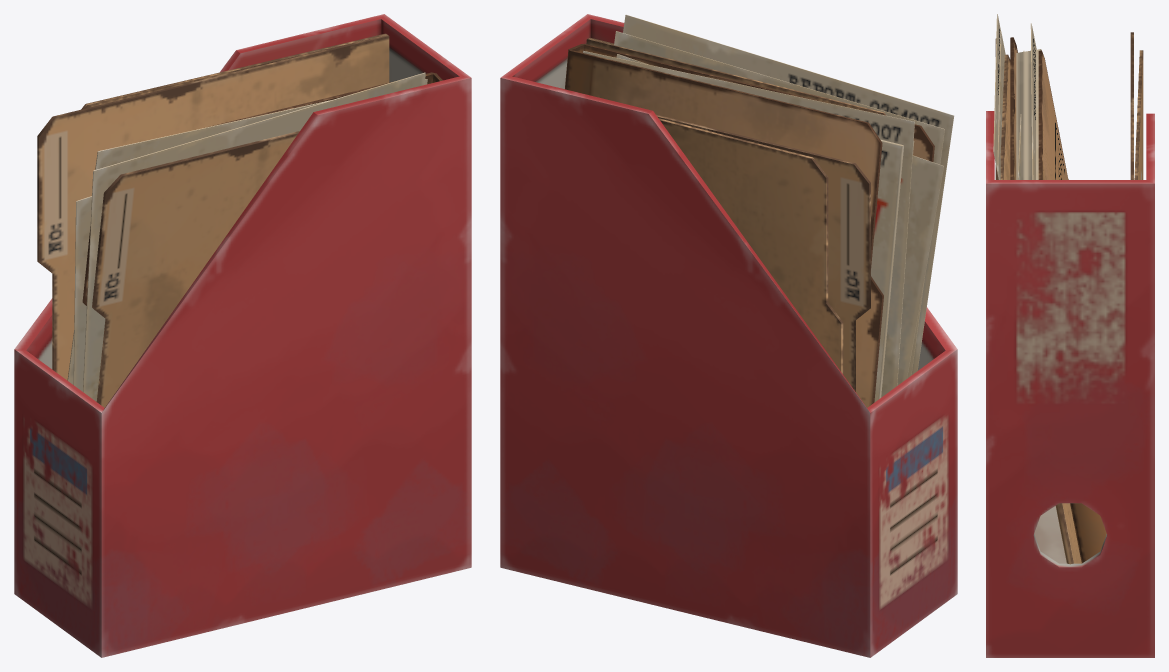
Rendered from folderHolder01_B.fbx.
The picture shows the model from 3 angles, left to right: view 1: azimuth 30°, elevation 25°; view 2: azimuth 150°, elevation 25°; view 3: azimuth 270°, elevation 25°; orthographic projection. The views are drawn at different scales.
Visible parts, largest first — view 1: folderHolder01_B; view 2: folderHolder01_B; view 3: folderHolder01_B.
Part boxes in pixels (x1,y1,x2,y2): folderHolder01_B: (14,14,471,657); folderHolder01_B: (500,14,957,657); folderHolder01_B: (986,14,1154,657).
Size of the model in its own units: 24.89 by 31.79 by 10.
